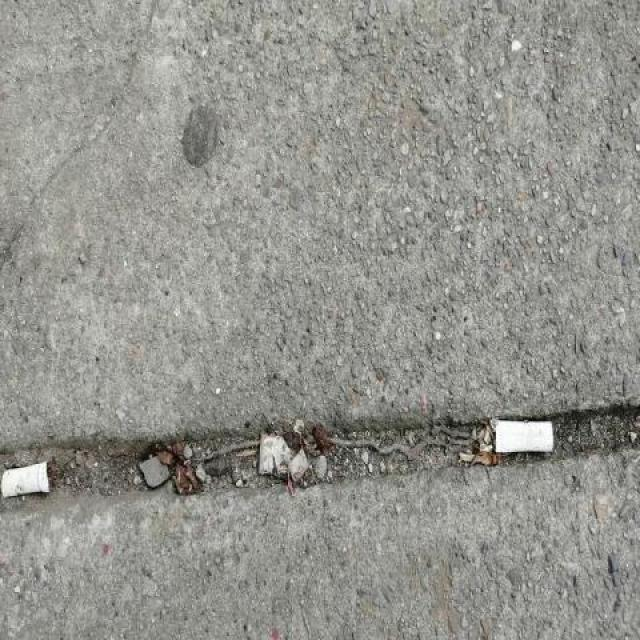non-organic waste: (494, 414, 557, 459), (1, 461, 58, 499)
